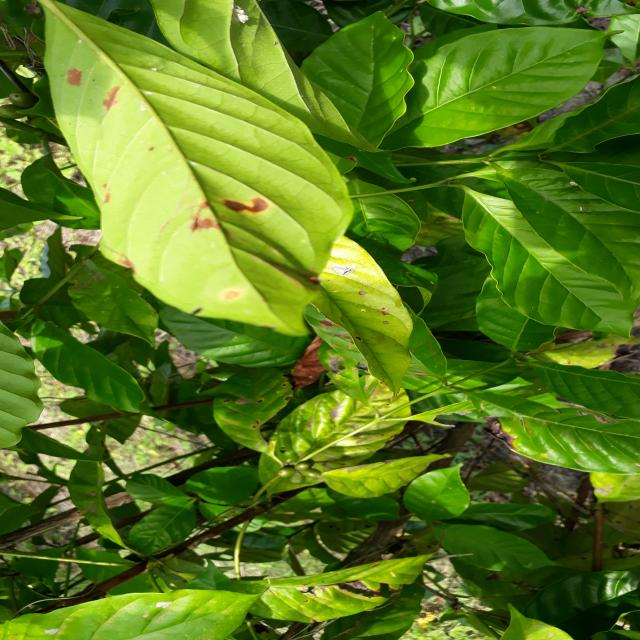Plaga-AranaRoja: (37, 0, 354, 338)
